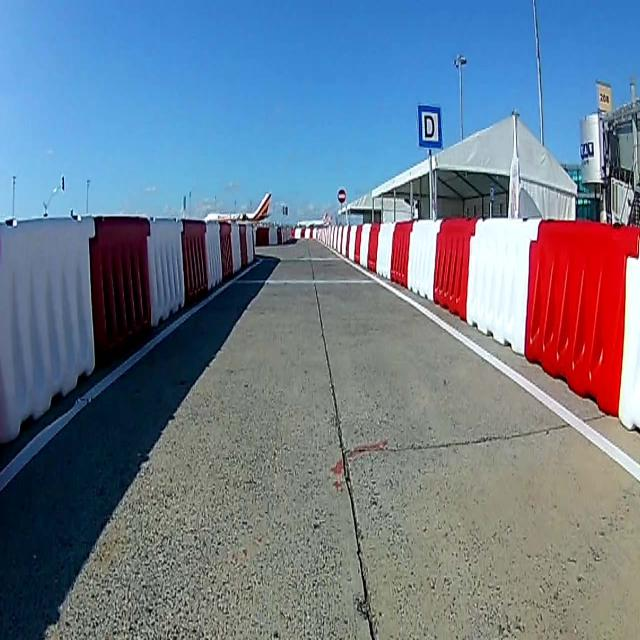durak: (418, 107, 444, 150)
girisyok: (338, 187, 347, 205)
